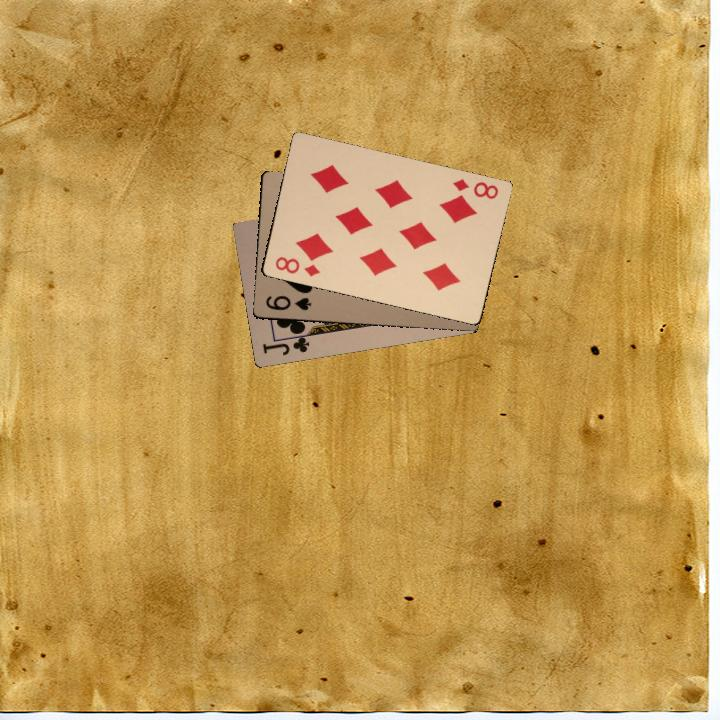6s: (262, 291, 314, 313)
8d: (448, 175, 501, 202), (271, 252, 322, 279)
Jc: (258, 329, 312, 358)
